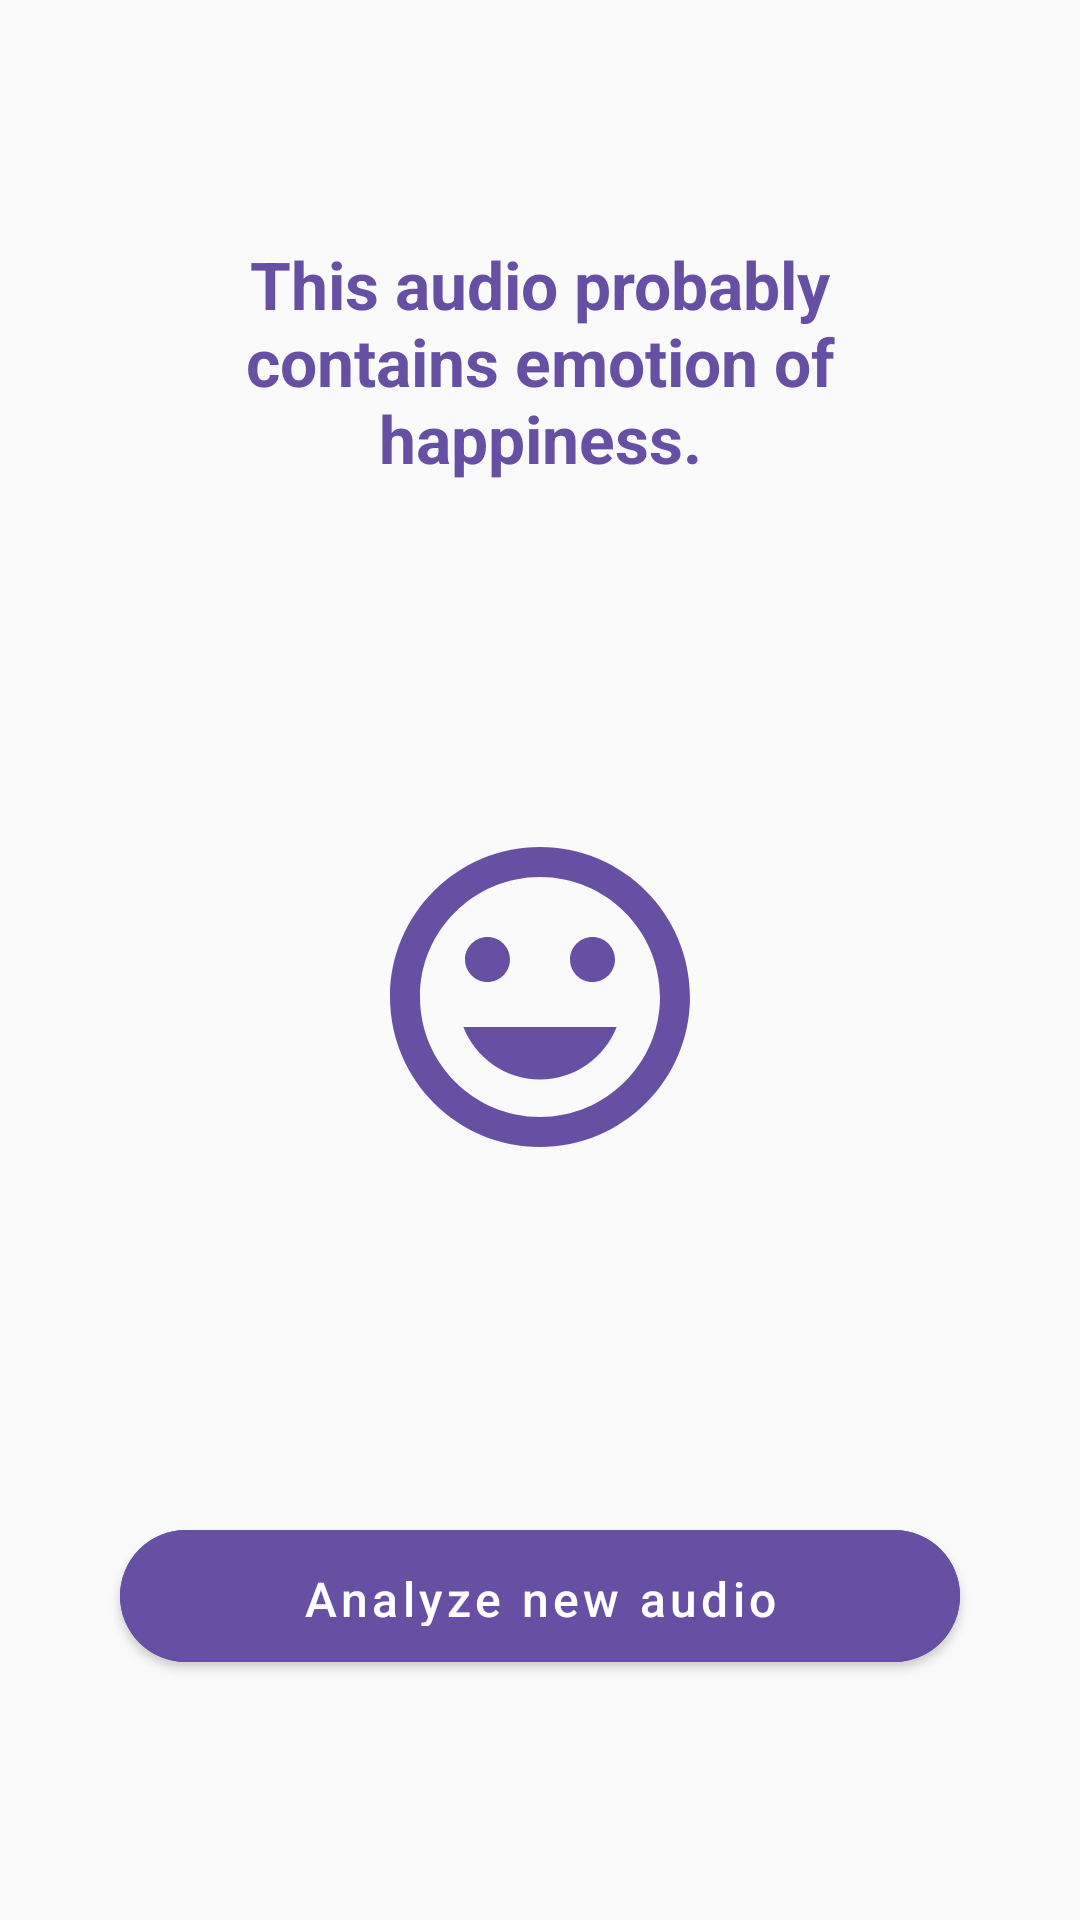

Icons on this 1080w x 1920h Android screen, each with the point to tap as [x,y]:
smile: [540,997]
